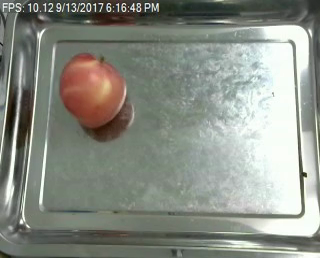Apple: (59, 53, 127, 129)
